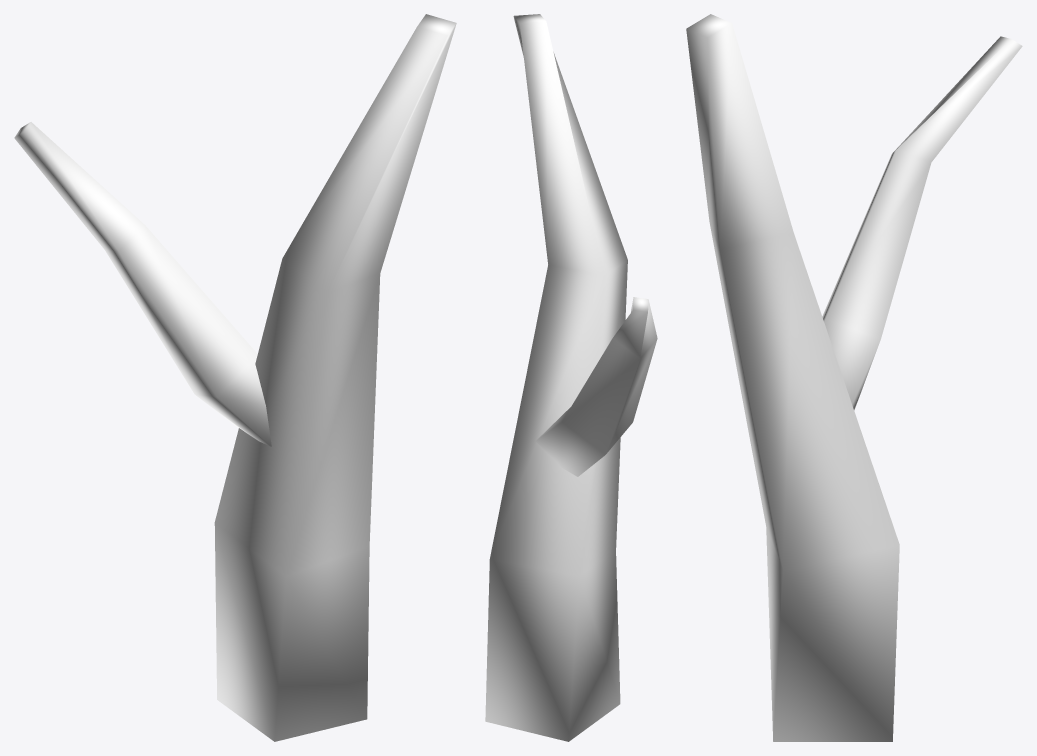
Rendered from tree_00.obj.
3 renders of one model, left to right at view 1: azimuth 30°, elevation 25°; view 2: azimuth 150°, elevation 25°; view 3: azimuth 270°, elevation 25°, orthographic. The views are drawn at different scales.
Parts seen in each view (by area): view 1: Cube.001; view 2: Cube.001; view 3: Cube.001.
Part boxes in pixels (x1,y1,x2,y2): Cube.001: [14, 14, 456, 741]; Cube.001: [485, 14, 657, 741]; Cube.001: [686, 14, 1022, 741].
Bounding box in the file's own units: 3.19 × 7.3 × 3.02.
